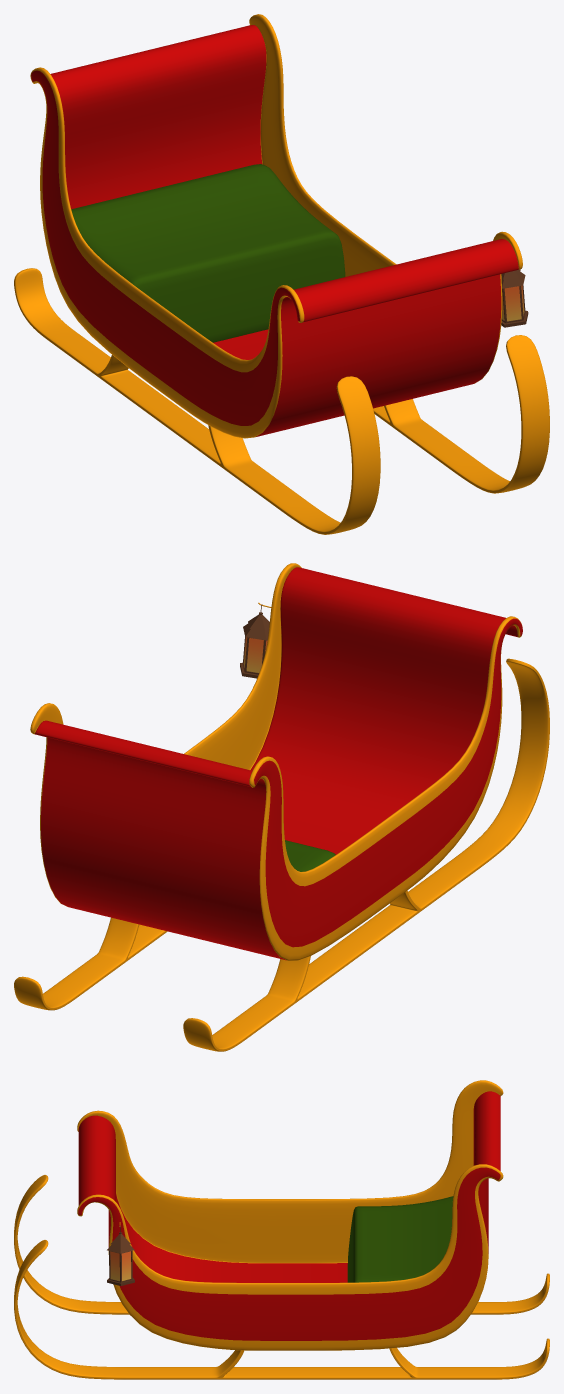
The model's file is santasleigh.obj.
3 views of the same model, one above another, from view 1: azimuth 30°, elevation 25°; view 2: azimuth 150°, elevation 25°; view 3: azimuth 270°, elevation 25° (orthographic). The views are drawn at different scales.
Visible parts, largest first — view 1: santasleigh; view 2: santasleigh; view 3: santasleigh.
Boxes of the visible parts, x1,y1,x2,y2 form: santasleigh: [14, 14, 549, 534]; santasleigh: [14, 563, 549, 1051]; santasleigh: [14, 1080, 549, 1379].
Size of the model in its own units: 1.93 by 2.02 by 4.46.
Materials: 1 (1 with a texture image).
